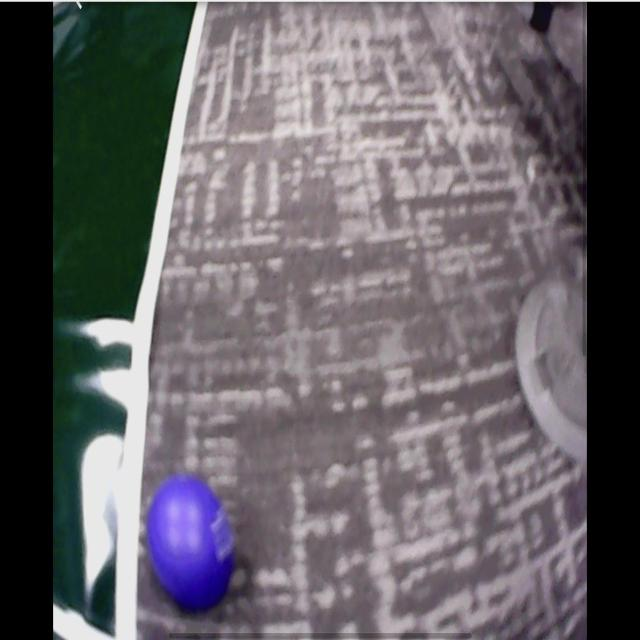ball: (148, 475, 233, 612)
